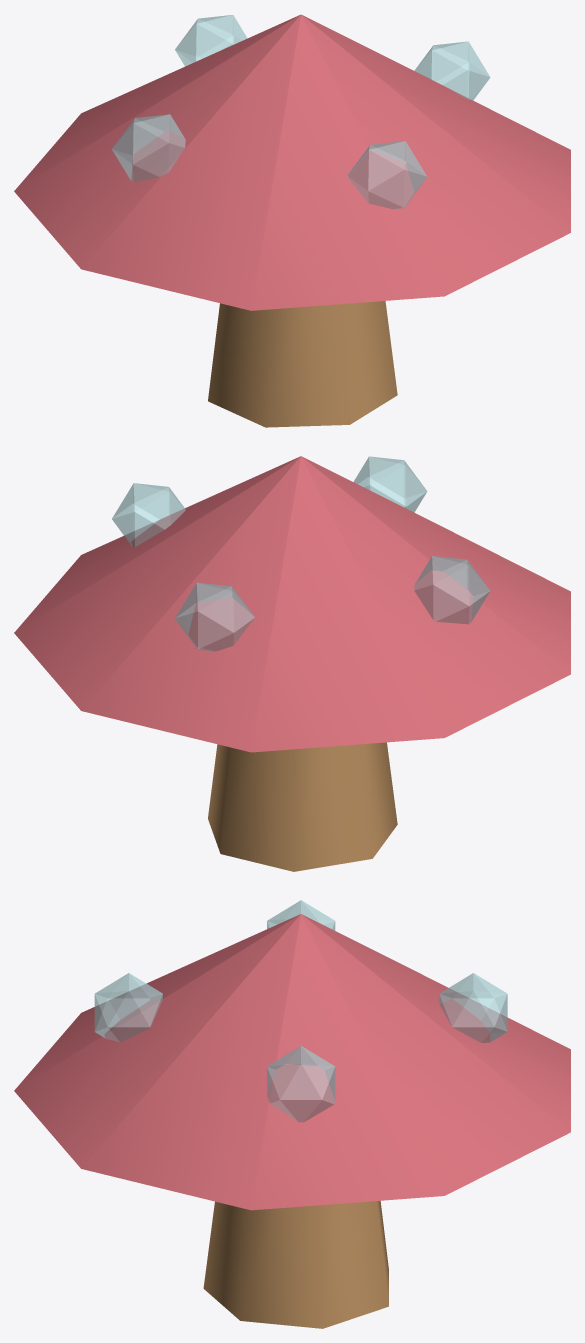
Rendered from mushroomSeat.glb.
3 views of the same model, one above another, from view 1: azimuth 30°, elevation 25°; view 2: azimuth 150°, elevation 25°; view 3: azimuth 270°, elevation 25° (orthographic).
Size of the model in its own units: 0.9848 by 0.72 by 0.9698.
